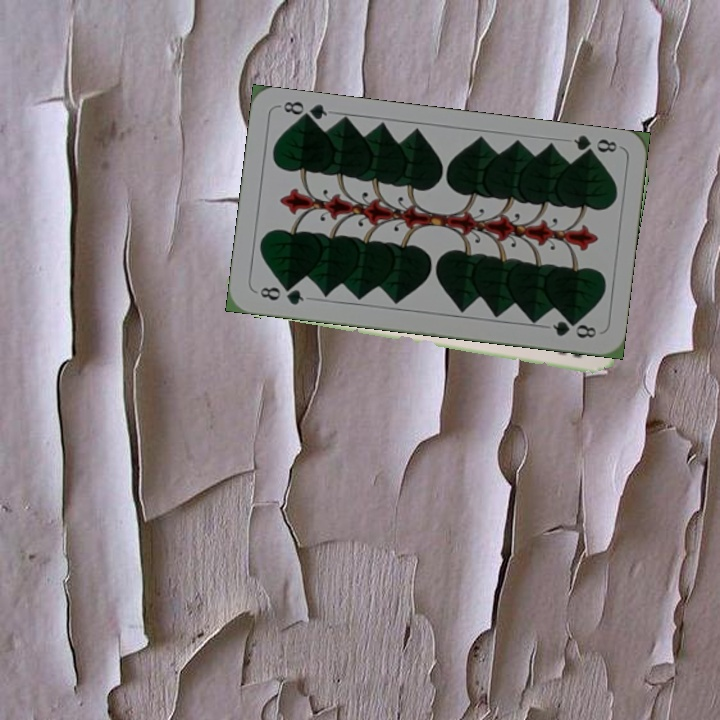G8: (569, 131, 620, 160), (253, 282, 306, 308)
